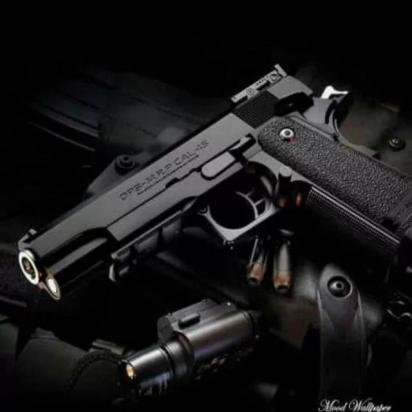Gun: (11, 59, 411, 305)
